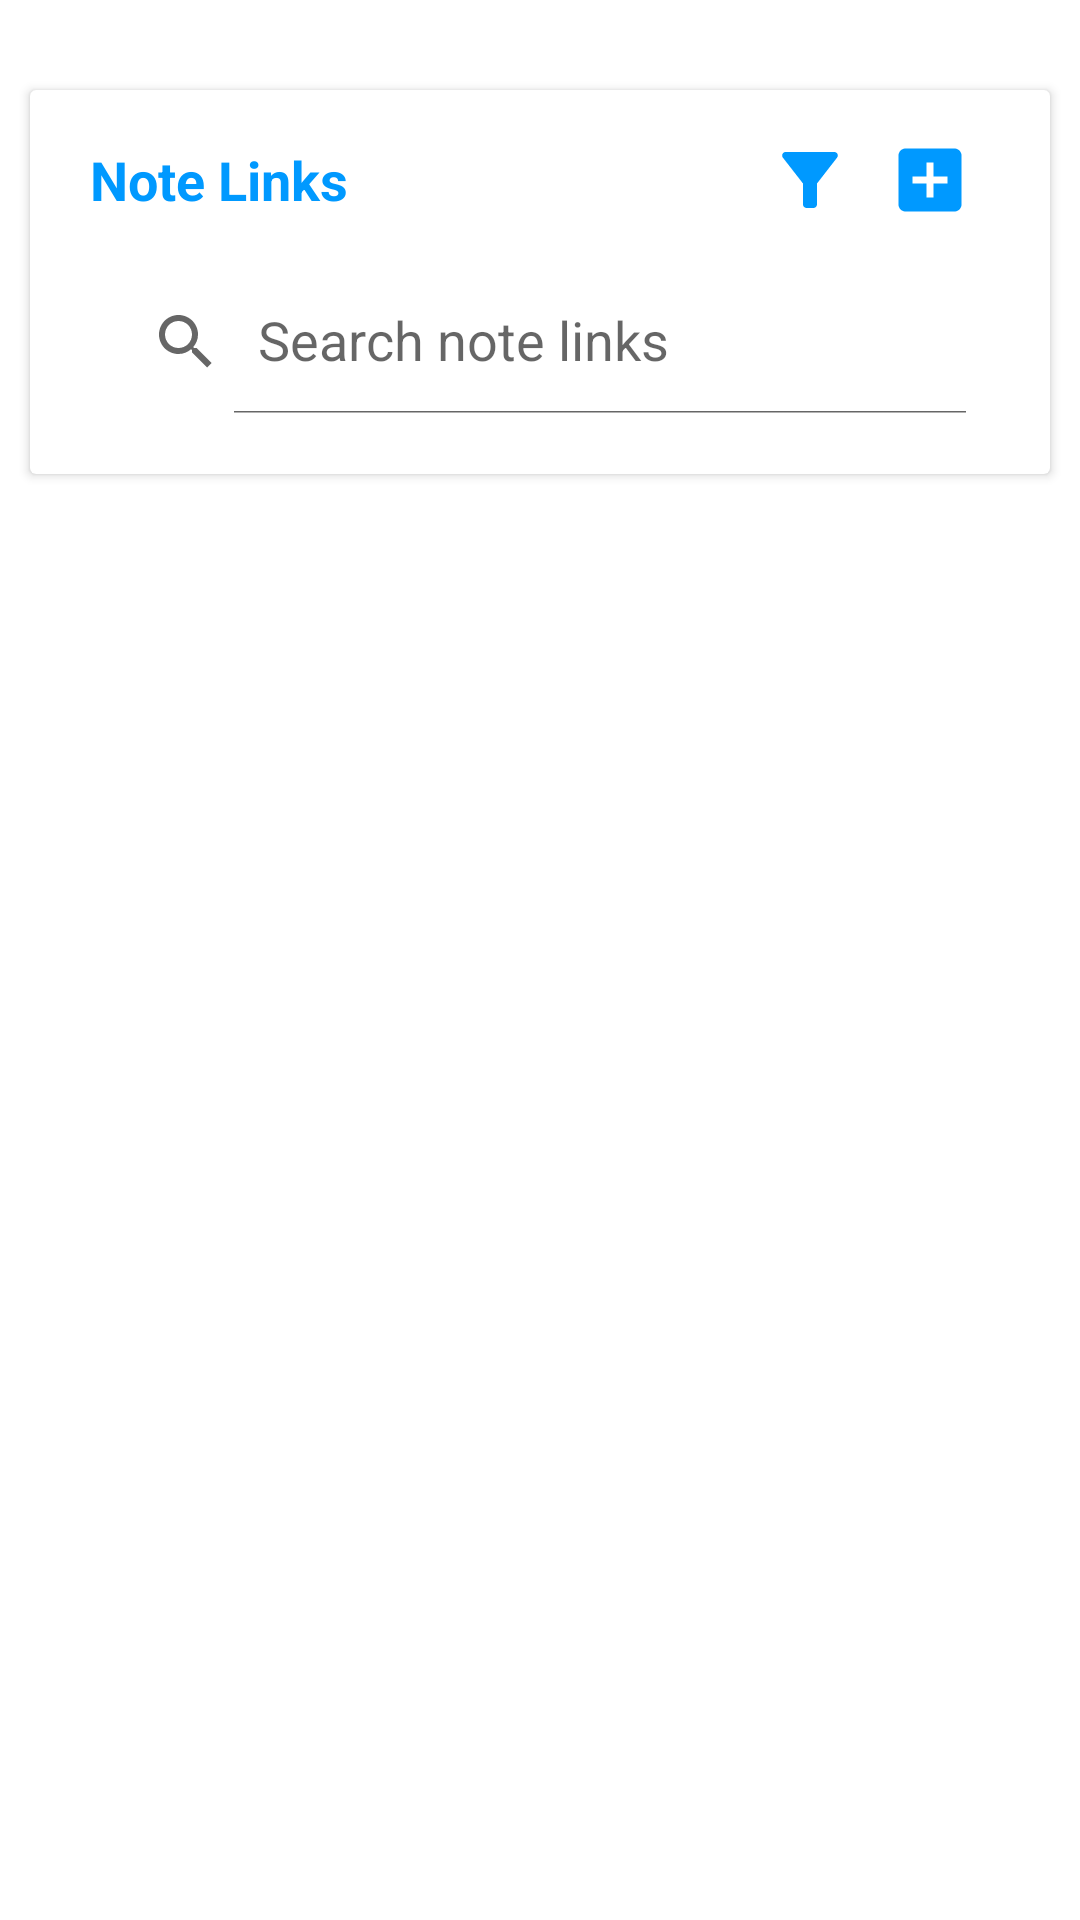

Locate icon controls on the screen. Image size 1080x1920, boxes as (x1, y1, x2, y2).
add box: (898, 148, 962, 212)
filter: (782, 152, 838, 208)
